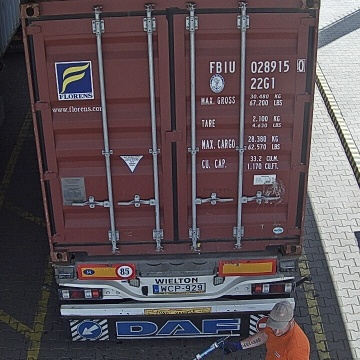serial_id: (210, 59, 305, 72)
